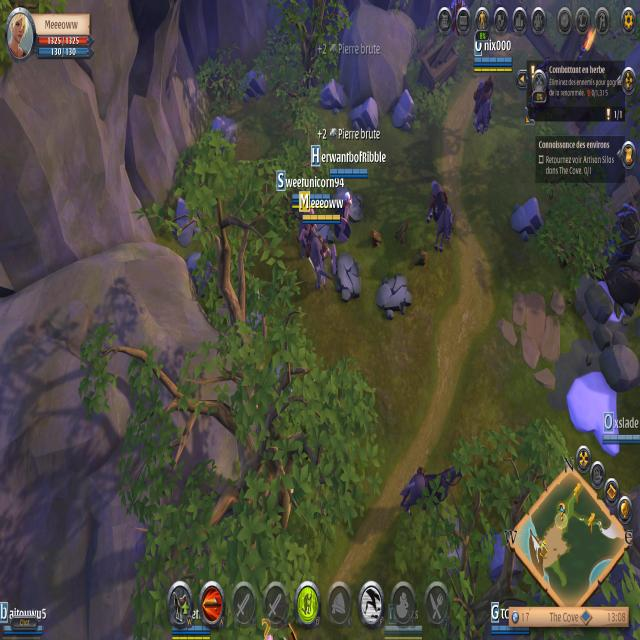broken stone: (376, 273, 414, 320), (335, 252, 362, 306)
stone: (510, 190, 543, 242), (170, 197, 202, 246), (350, 91, 380, 137), (237, 61, 267, 105), (390, 86, 416, 134), (320, 73, 348, 115), (210, 112, 237, 150)
